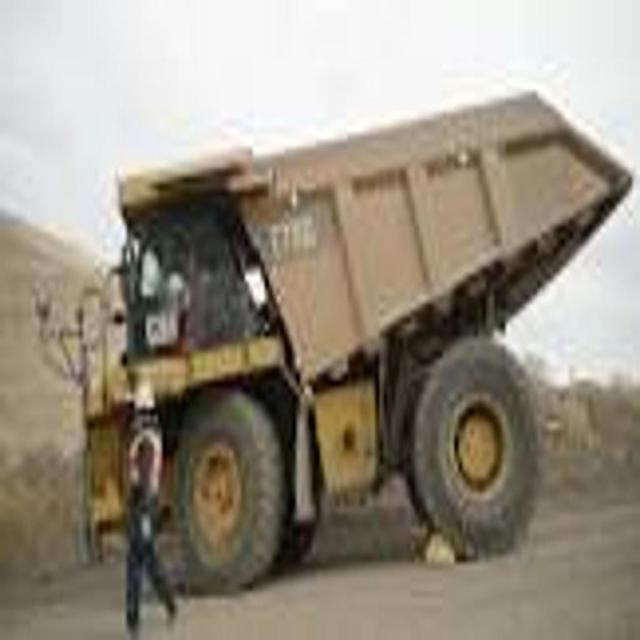dump_truck: (59, 86, 636, 582)
